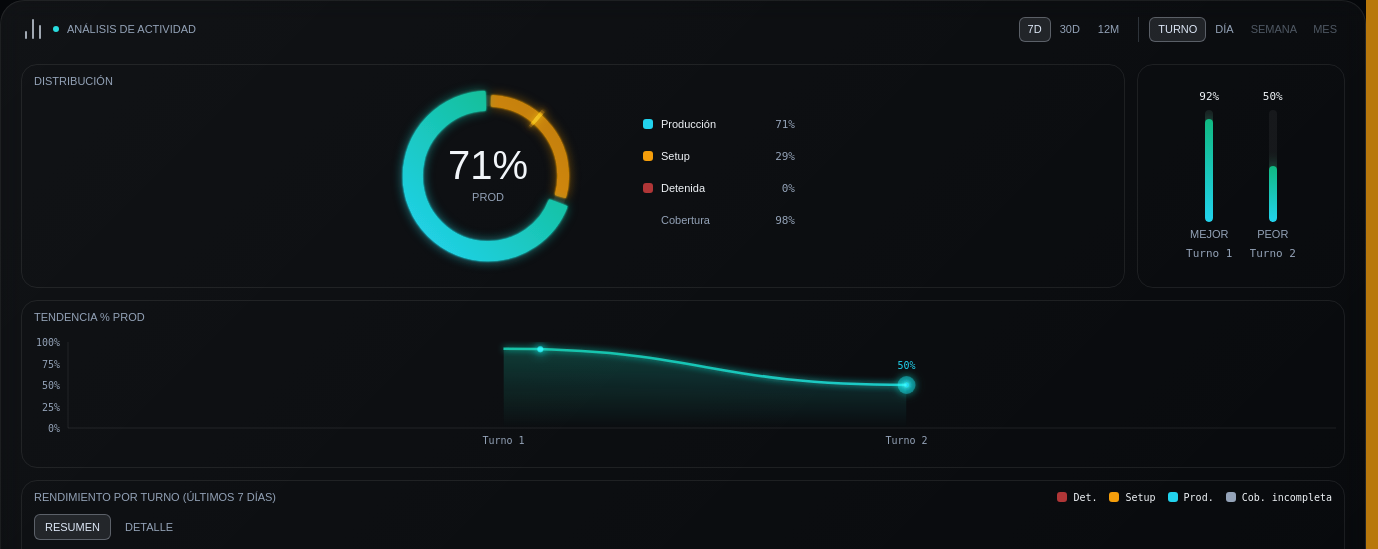
ActivityAnalyticsWidget › ranks closed high-coverage incomplete Turno buckets without rendering comparison context text in Mejor/Peor
Click the button "Detalle" at (149, 527), box [115,514,183,539]
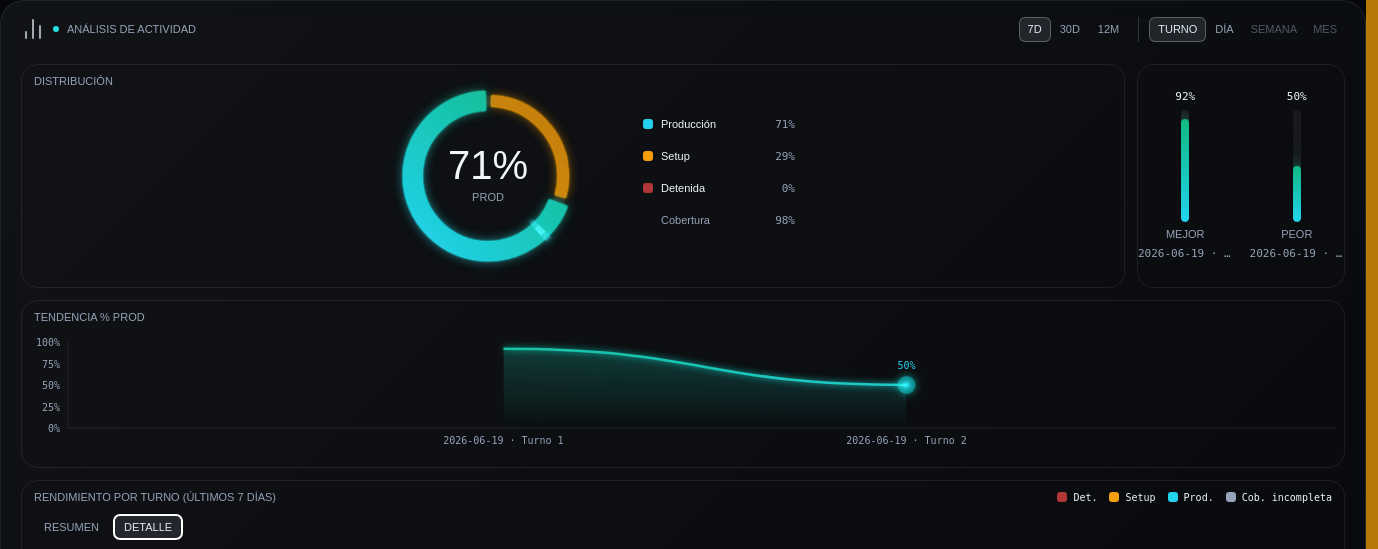
Expected: the element with test id "activity-analytics-comparison" shows "92%", [1175,90,1195,103]
Expected: the text "2026-06-19 · Turno 1" is shown, [1138,246,1232,263]
Expected: the text "2026-06-19 · Turno 2" is shown, [1250,246,1344,263]
